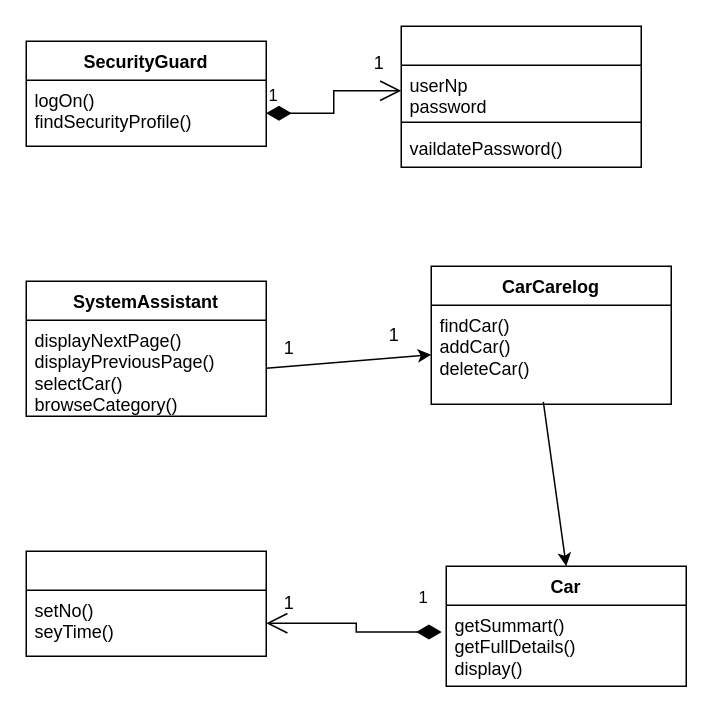
This 713x717 diagram has some shape labels left out. Here are the shapes that lost their labels. From the top down, the box of each, then its label:
(400, 25, 641, 167): securityProfile
(25, 550, 266, 656): CarDetails
